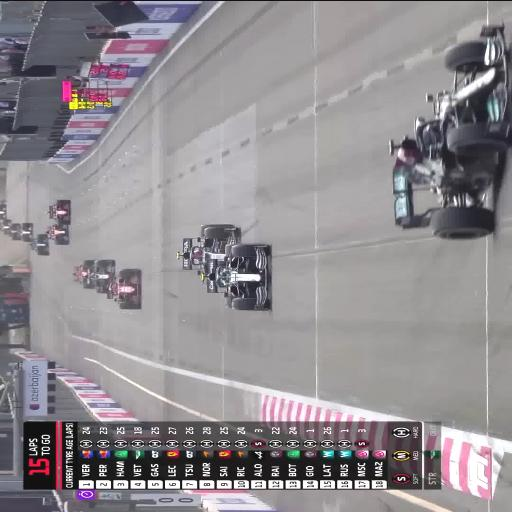f1_car: (389, 24, 511, 239), (201, 243, 269, 310), (176, 223, 238, 274), (108, 268, 141, 309), (86, 259, 114, 293), (73, 259, 93, 288), (48, 199, 70, 224), (46, 223, 69, 244), (30, 233, 48, 255), (17, 222, 32, 241), (7, 222, 20, 240), (0, 218, 11, 235), (0, 199, 6, 218)
